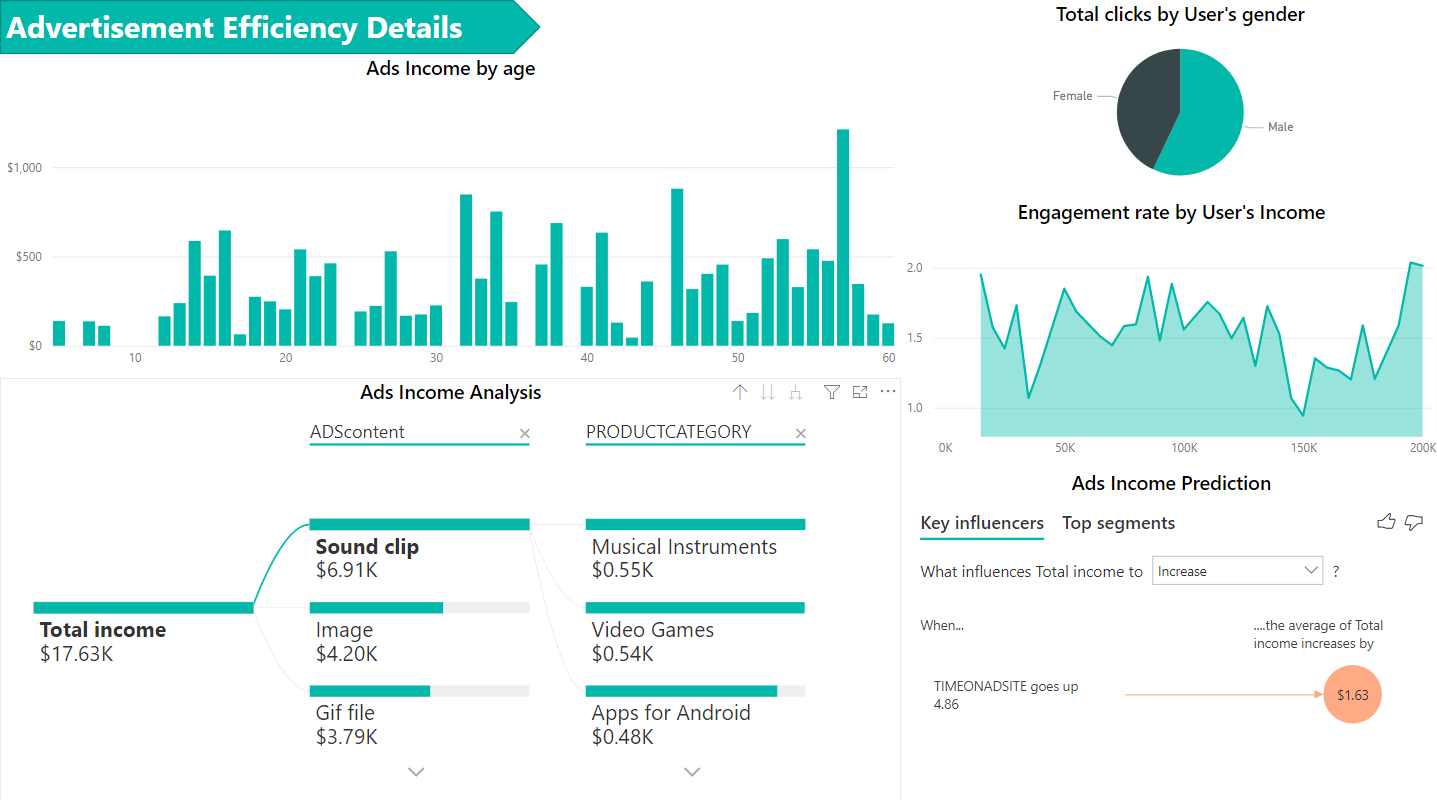

The dashboard page shown, as its layout file describes it:
{"tool":"powerbi","page":{"name":"Details","canvas":[1280,720],"ordinal":1},"visuals":[{"type":"keyDriversVisual","title":"Buying rate analysis","fields":{"Target":["FACT_ADS.ISBOUGHTFLAG"],"ExplainBy":["DIM_ADS.ADSCATEGORY"]},"box":[800,416,480,304],"z":0},{"type":"decompositionTreeVisual","title":"Ads Income Analysis","fields":{"Analyze":["FACT_ADS.total income"],"ExplainBy":["DIM_ADS.ADSCATEGORY","DIM_PRODUCT.PRODUCTCATEGORY"]},"box":[0,336,800,384],"z":1000},{"type":"clusteredColumnChart","title":"Engagement rate by age","fields":{"Y":["FACT_ADS.Engangement rate"],"Category":["DIM_CUSTOMER.AGE"]},"box":[0,48,800,288],"z":2000},{"type":"pieChart","title":"Total clicks by User''s gender","fields":{"Category":["DIM_CUSTOMER.GENDER"],"Y":["FACT_ADS.Total clicks"]},"box":[816,0,464,176],"z":3000},{"type":"areaChart","title":"Engagement rate by User''s Income","fields":{"Category":["DIM_CUSTOMER.INCOME"],"Y":["FACT_ADS.Engangement rate"]},"box":[800,176,480,240],"z":4000},{"type":"shape","box":[0,0,480,48],"z":5000},{"type":"textbox","box":[0,0,800,48],"z":6000}]}

Visuals, with their boxes in screenshot pixels (x1, y1, x2, y2), scaled from the page's 1280x720 canvas onto the 1437x800 screenshot:
"Buying rate analysis" keyDriversVisual: <bbox>898, 462, 1436, 799</bbox>
"Ads Income Analysis" decompositionTreeVisual: <bbox>0, 373, 898, 799</bbox>
"Engagement rate by age" clusteredColumnChart: <bbox>0, 53, 898, 373</bbox>
"Total clicks by User''s gender" pieChart: <bbox>916, 0, 1436, 196</bbox>
"Engagement rate by User''s Income" areaChart: <bbox>898, 196, 1436, 462</bbox>
shape: <bbox>0, 0, 539, 53</bbox>
textbox: <bbox>0, 0, 898, 53</bbox>
